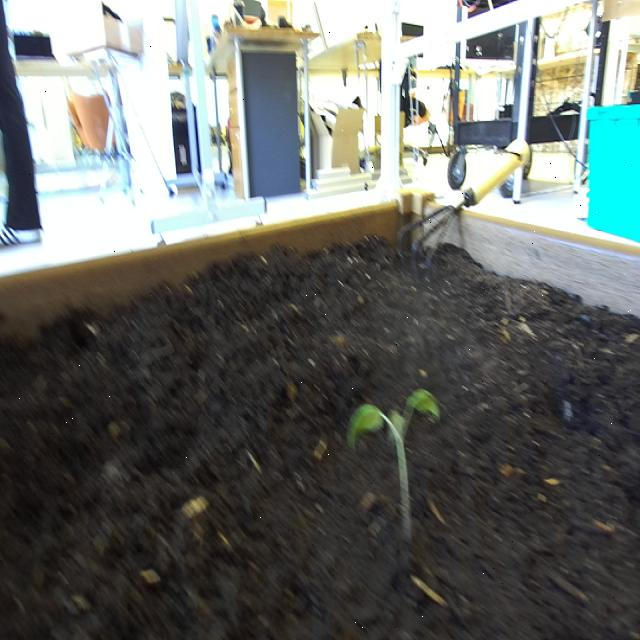Healthy: (340, 369, 447, 566)
